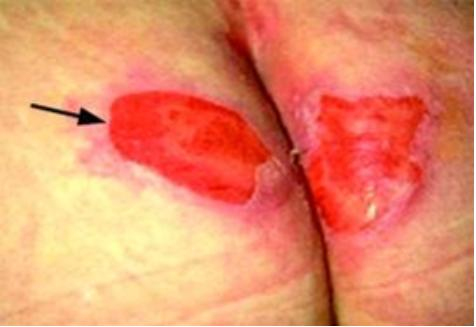Stage2: (83, 51, 445, 253)
